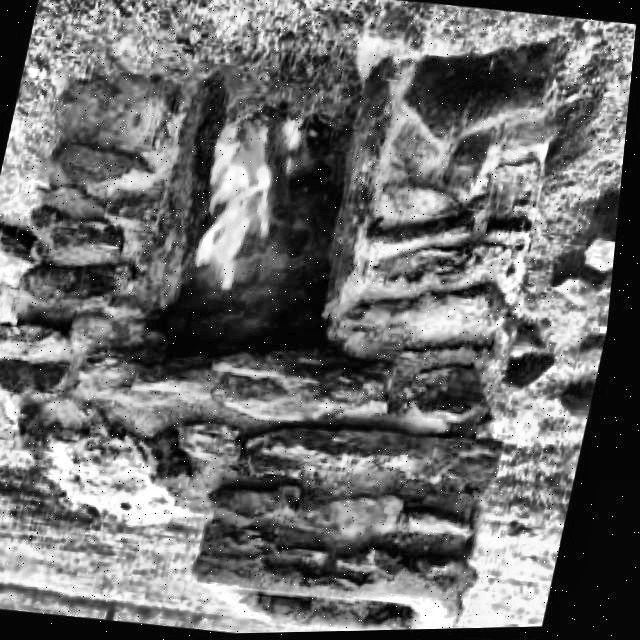Fire: (178, 98, 314, 295)
